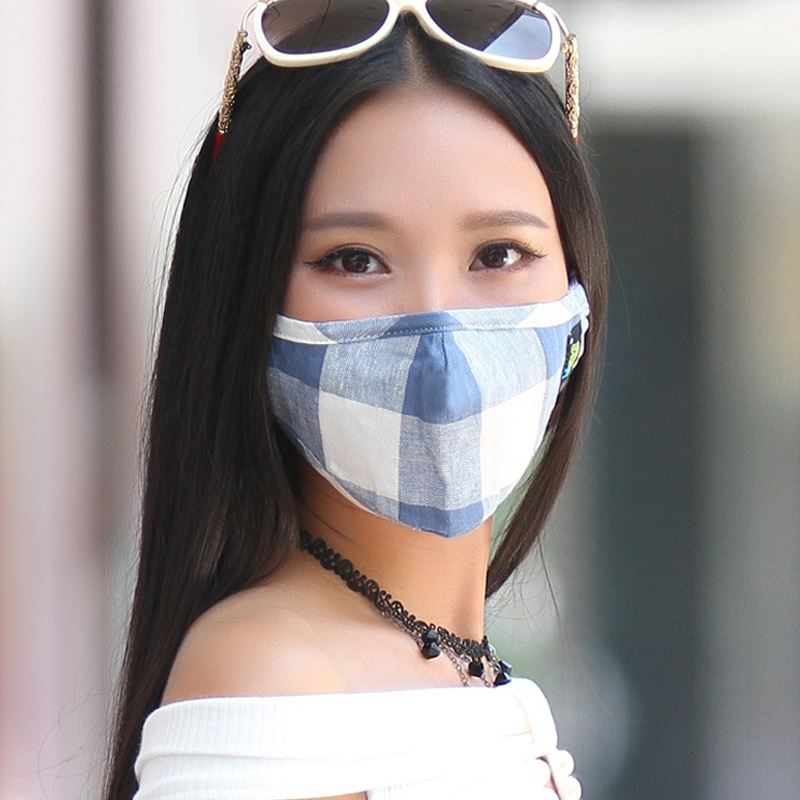face_mask: (273, 93, 568, 502)
